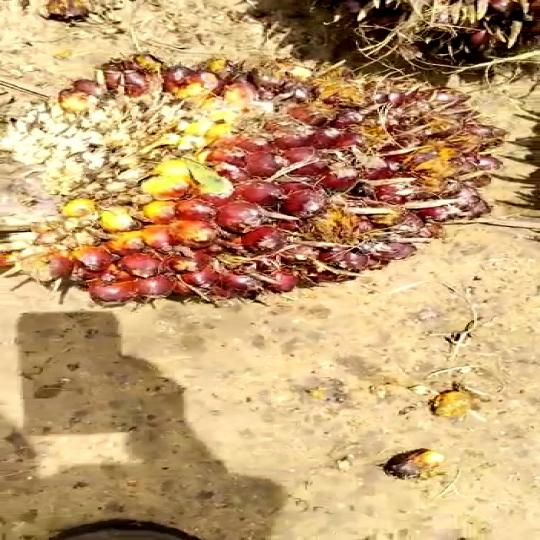kurang masak: (0, 45, 516, 287)
